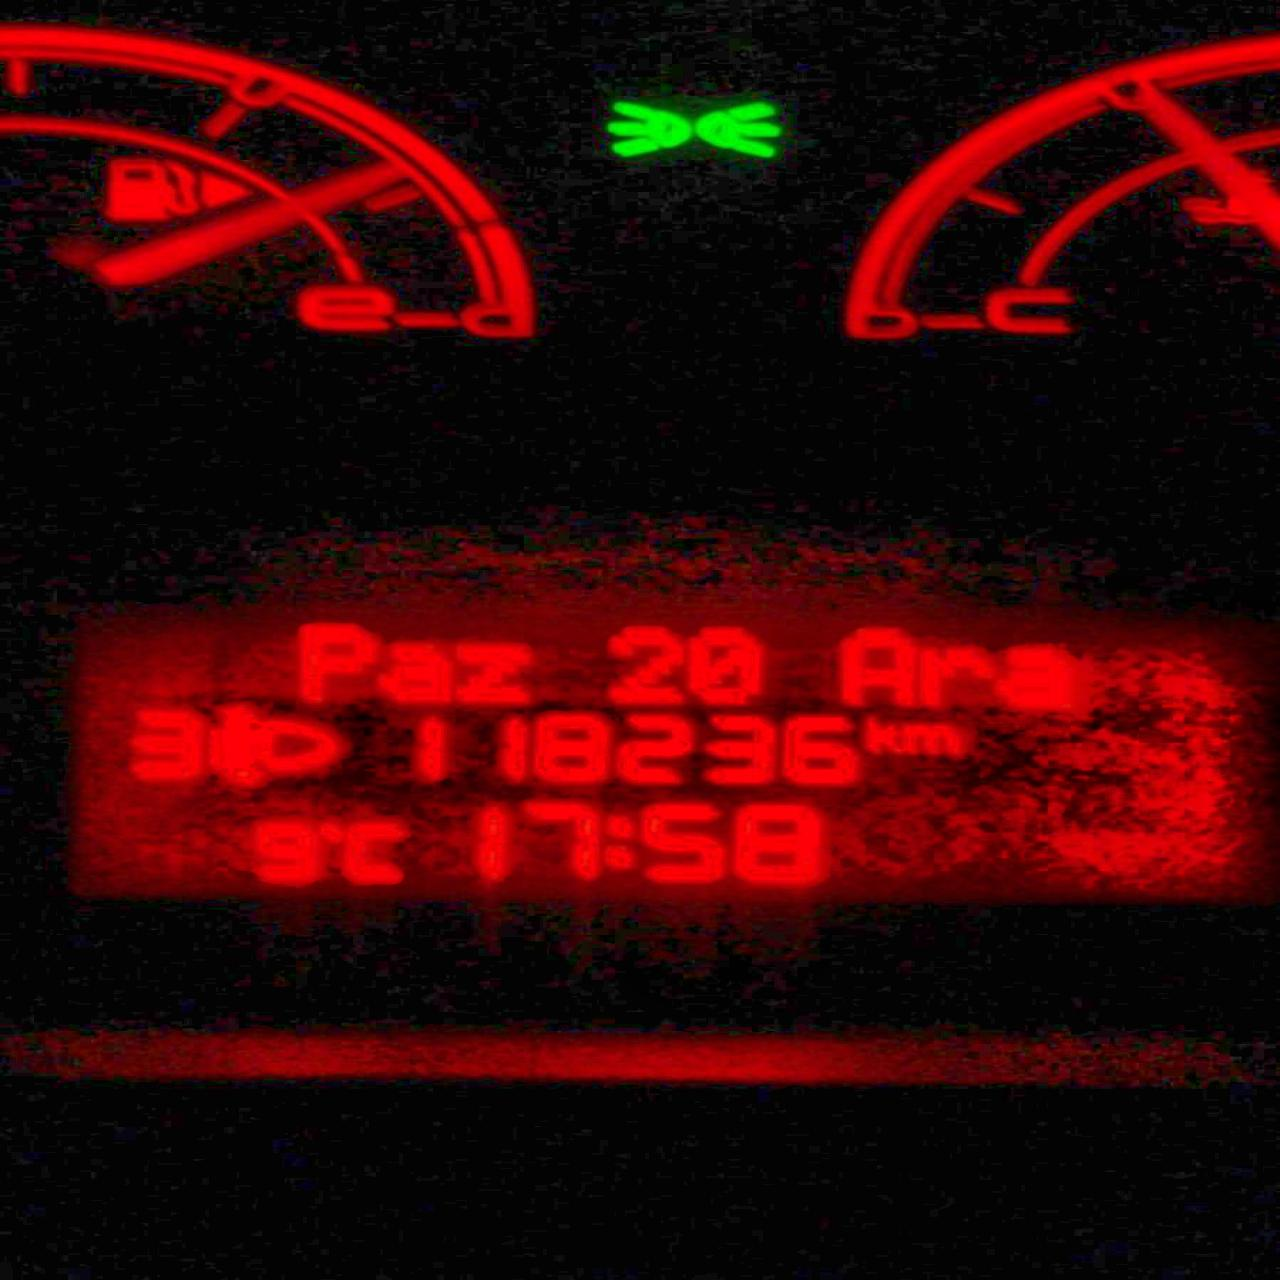0: (692, 622, 770, 703)
1: (469, 799, 512, 892), (409, 710, 450, 789), (491, 709, 533, 782)
2: (598, 620, 690, 708), (618, 708, 693, 787)
3: (127, 704, 200, 787), (707, 710, 782, 789)
5: (638, 796, 726, 885)
6: (783, 709, 864, 791)
7: (523, 792, 599, 885)
8: (729, 798, 828, 894), (530, 709, 615, 784)
9: (246, 813, 321, 887)
X: (290, 618, 380, 703), (837, 626, 922, 708), (452, 634, 543, 707), (1001, 646, 1081, 712), (381, 638, 451, 707), (926, 642, 995, 709), (343, 815, 410, 884), (599, 809, 640, 872), (901, 720, 962, 755), (865, 713, 903, 756)
odometer: (53, 611, 1275, 908)
